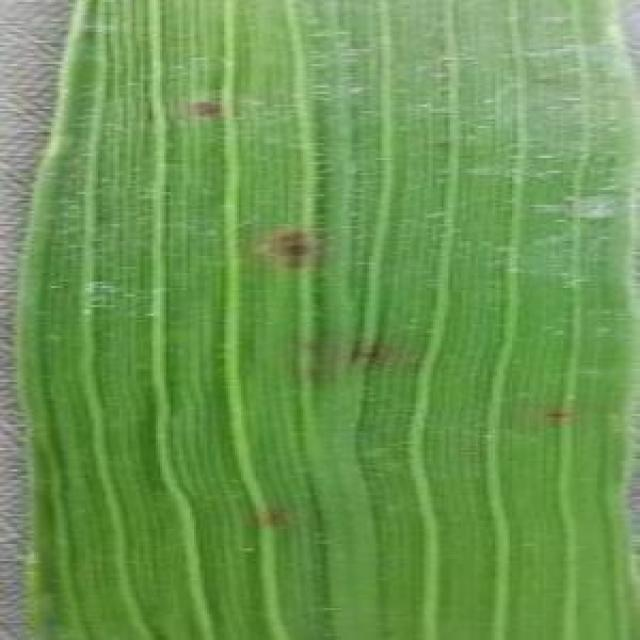Brown_Spot: (254, 216, 324, 276), (340, 326, 409, 371), (252, 496, 296, 529), (176, 100, 222, 125), (542, 405, 566, 426)
